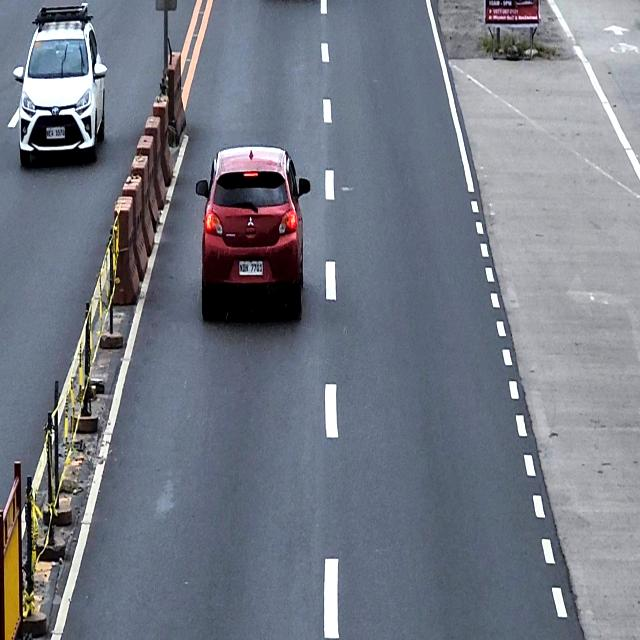Car: (195, 145, 311, 321), (13, 3, 107, 168)
License-Plate: (238, 258, 264, 276), (46, 126, 66, 140)
